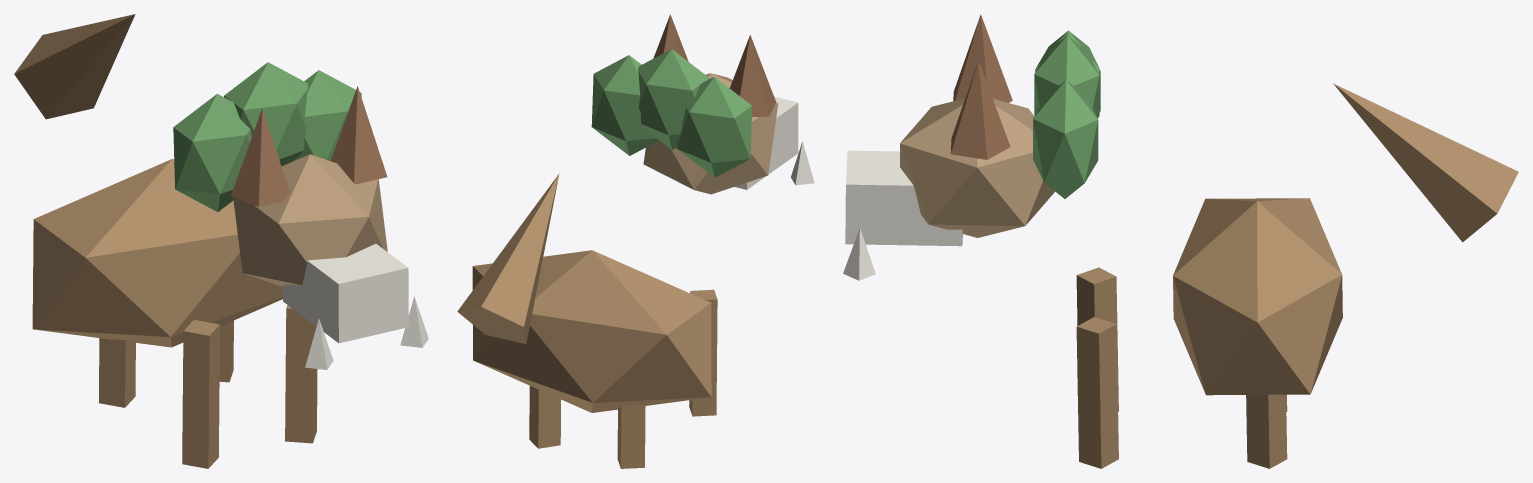
Rendered from npcpose_wolf_attack_11.glb.
The picture shows the model from 3 angles, left to right: view 1: azimuth 30°, elevation 25°; view 2: azimuth 150°, elevation 25°; view 3: azimuth 270°, elevation 25°; orthographic projection. The views are drawn at different scales.
Visible parts, largest first — view 1: npcpose; view 2: npcpose; view 3: npcpose.
Boxes of the visible parts, x1,y1,x2,y2 form: npcpose: [14, 14, 428, 468]; npcpose: [457, 14, 814, 468]; npcpose: [843, 14, 1518, 468].
Bounding box in the file's own units: 0.8873 × 1.21 × 1.85.
